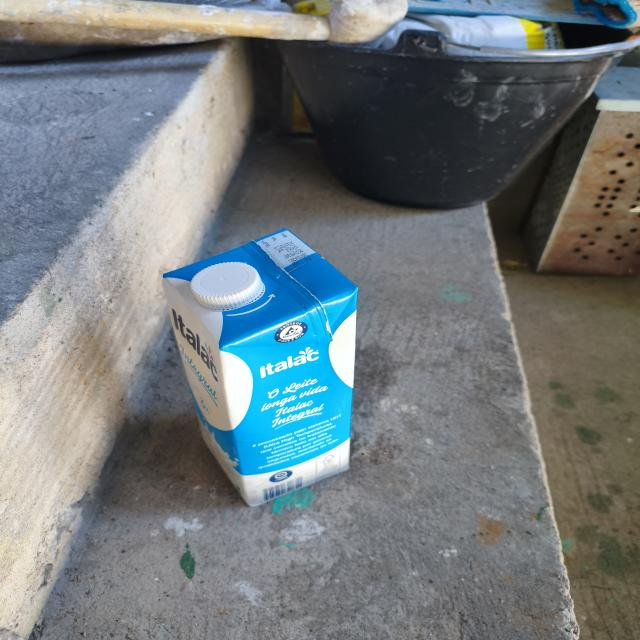Caixa de Leite: (169, 227, 383, 521)
